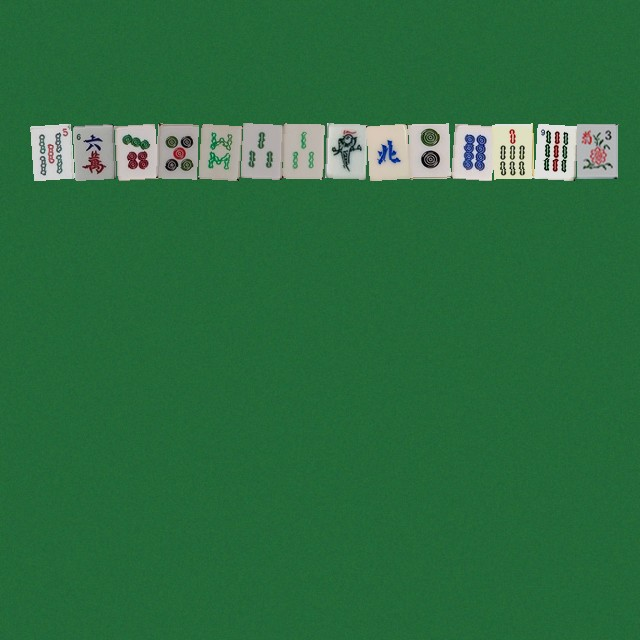tile: (30, 123, 71, 178), (72, 123, 113, 178), (114, 123, 155, 178), (156, 123, 197, 178), (198, 123, 239, 178), (240, 123, 281, 178), (282, 123, 323, 178), (324, 123, 365, 178), (366, 123, 407, 178), (408, 123, 449, 178), (450, 123, 491, 178), (492, 123, 533, 178), (534, 123, 575, 178), (576, 123, 617, 178)
